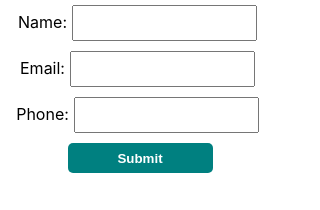
Scenario: Profile component › correct name, correct email, empty phone
The image size is (320, 210).
Type "Martin" into the field labelled "Name:" at (164, 23), box [72,5,257,41]
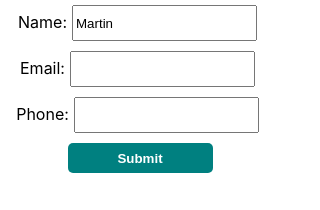
Type "martin.lapsa2@gmail.com" into the field labelled "Email:" at (162, 69), box [70,51,255,87]
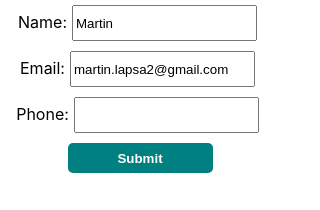
Click the button "Submit" at (140, 158), box [68,143,212,173]
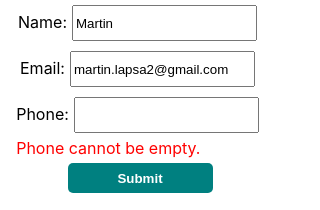
Now the text "Phone cannot be empty." is shown, box [16,138,200,158]
